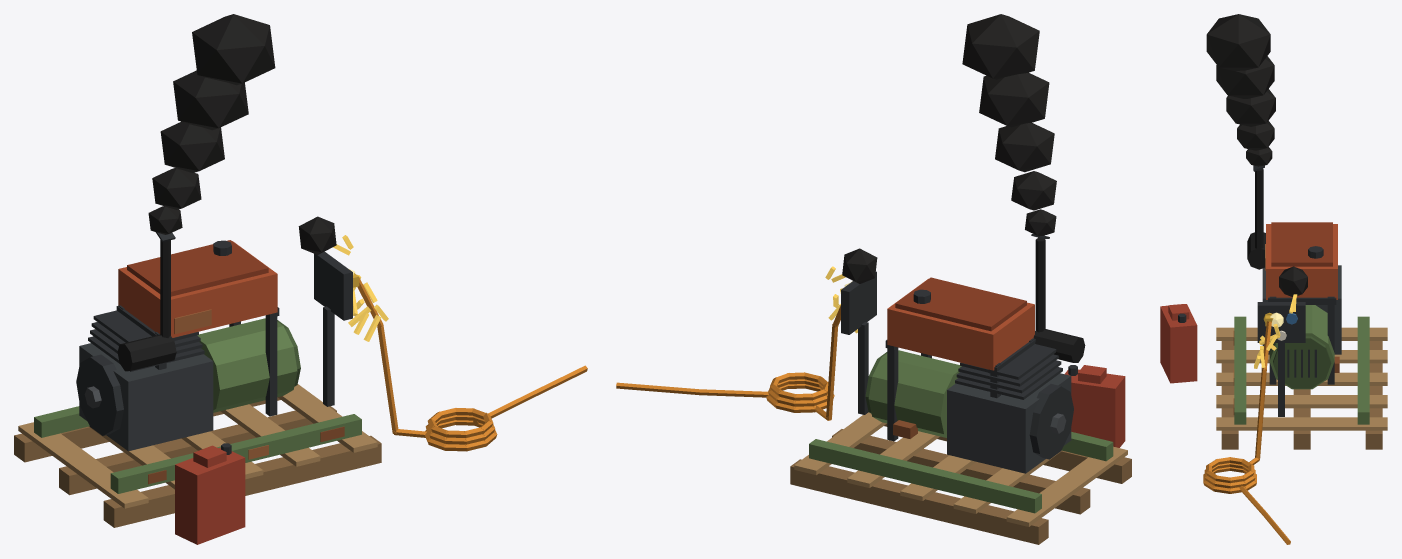
The model's file is lwf_farm_diesel_fault_v1.glb.
3 views of the same model, side by side, from view 1: azimuth 30°, elevation 25°; view 2: azimuth 150°, elevation 25°; view 3: azimuth 270°, elevation 25° (orthographic). The views are drawn at different scales.
Parts seen in each view (by area): view 1: LWF_FarmDiesel_Base, LWF_FarmDiesel_State_Fault; view 2: LWF_FarmDiesel_Base, LWF_FarmDiesel_State_Fault; view 3: LWF_FarmDiesel_Base, LWF_FarmDiesel_State_Fault.
Boxes of the visible parts, left/top/right/bottom form: LWF_FarmDiesel_Base: left=14, top=240, right=587, bottom=544; LWF_FarmDiesel_State_Fault: left=117, top=14, right=426, bottom=437; LWF_FarmDiesel_Base: left=616, top=271, right=1131, bottom=544; LWF_FarmDiesel_State_Fault: left=815, top=14, right=1085, bottom=420; LWF_FarmDiesel_Base: left=1160, top=222, right=1387, bottom=544; LWF_FarmDiesel_State_Fault: left=1206, top=14, right=1307, bottom=468.
Bounding box in the file's own units: 2.78 × 2.46 × 1.33.
2 materials, 2 textured.
